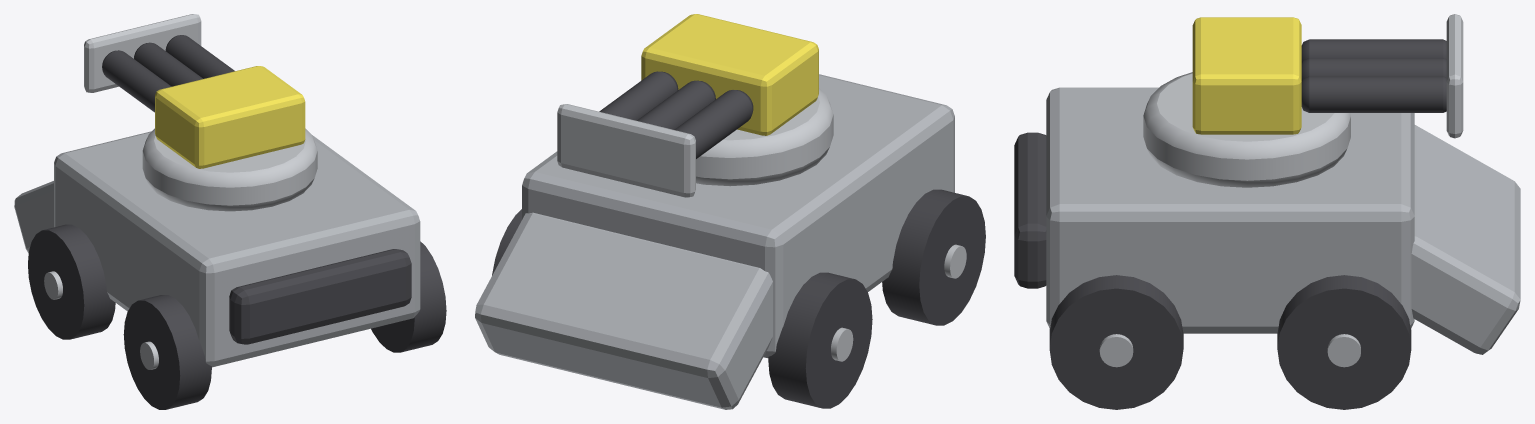
The model's file is robot_large_shotgun_standard.glb.
The picture shows the model from 3 angles, left to right: view 1: azimuth 30°, elevation 25°; view 2: azimuth 150°, elevation 25°; view 3: azimuth 270°, elevation 25°; orthographic projection. The views are drawn at different scales.
Visible parts, largest first — view 1: robot_large_shotgun_standard, robot_large_shotgun_standard_gun, robot_large_shotgun_standard_wheel0, robot_large_shotgun_standard_wheel1, robot_large_shotgun_standard_wheel2; view 2: robot_large_shotgun_standard, robot_large_shotgun_standard_gun, robot_large_shotgun_standard_wheel1, robot_large_shotgun_standard_wheel0, robot_large_shotgun_standard_wheel3; view 3: robot_large_shotgun_standard, robot_large_shotgun_standard_gun, robot_large_shotgun_standard_wheel2, robot_large_shotgun_standard_wheel3.
Boxes of the visible parts, x1,y1,x2,y2 form: robot_large_shotgun_standard: (14,128,420,367); robot_large_shotgun_standard_gun: (84,14,305,168); robot_large_shotgun_standard_wheel0: (123,295,211,409); robot_large_shotgun_standard_wheel1: (28,224,115,339); robot_large_shotgun_standard_wheel2: (371,241,446,352); robot_large_shotgun_standard: (475,74,954,409); robot_large_shotgun_standard_gun: (557,14,818,197); robot_large_shotgun_standard_wheel1: (768,272,872,408); robot_large_shotgun_standard_wheel0: (882,189,985,325); robot_large_shotgun_standard_wheel3: (492,209,521,275); robot_large_shotgun_standard: (1014,72,1520,354); robot_large_shotgun_standard_gun: (1192,14,1463,138); robot_large_shotgun_standard_wheel2: (1049,275,1183,409); robot_large_shotgun_standard_wheel3: (1277,275,1411,409).
Size of what is drawn, in the model's own units: 4.97 by 4.18 by 6.65.
